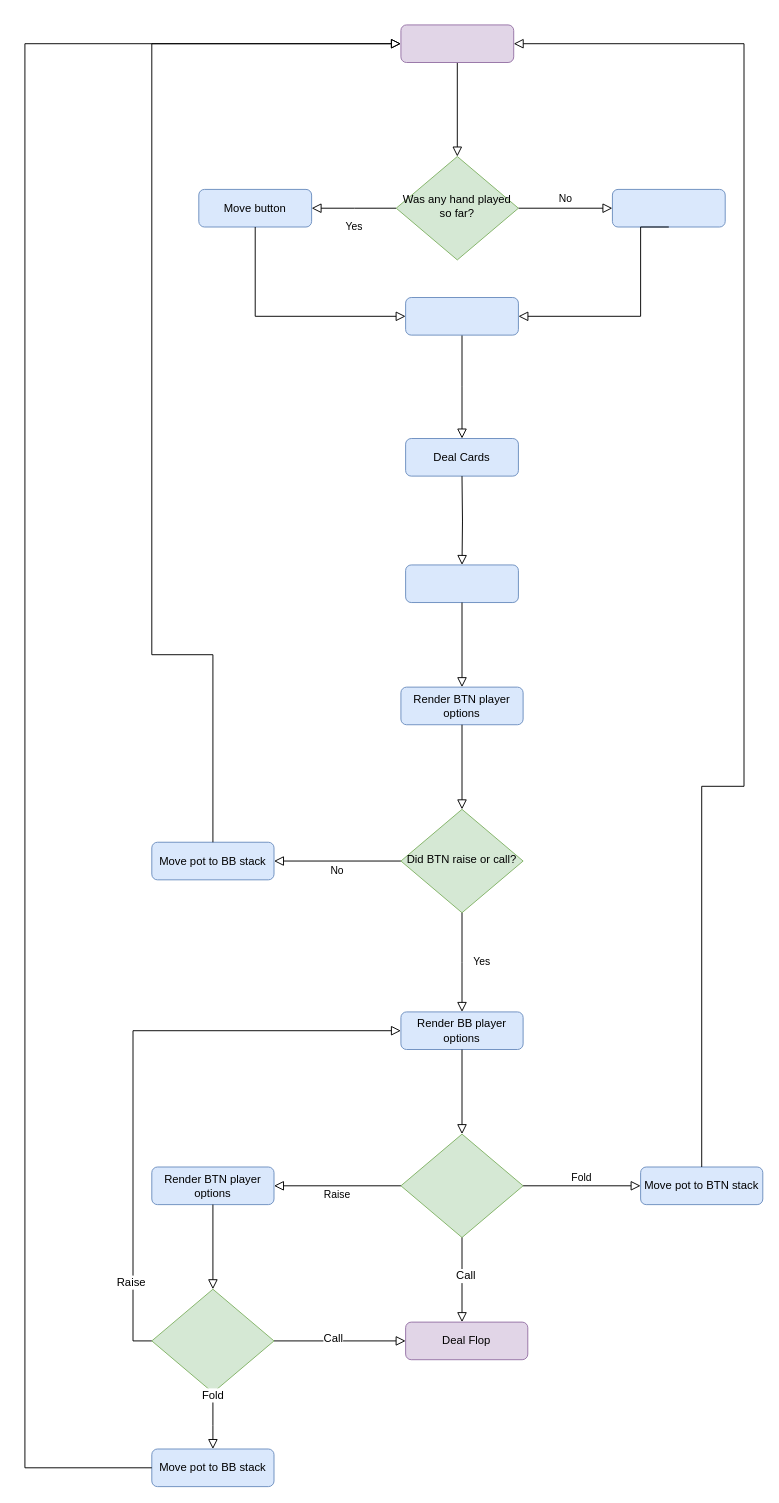
Image size: 779x1503. Some labels were removed from this diagram. Each missing label, with the centre of its shape:
"Charge Antes" belongs at (x=461, y=316).
"Randomize BTN" belongs at (x=668, y=207).
"Render stacksizes" belongs at (x=461, y=583).
"Start Game" belongs at (x=457, y=43).
"What was BB action?" belongs at (x=461, y=1185).
"What was BTN action?" belongs at (x=212, y=1340).
